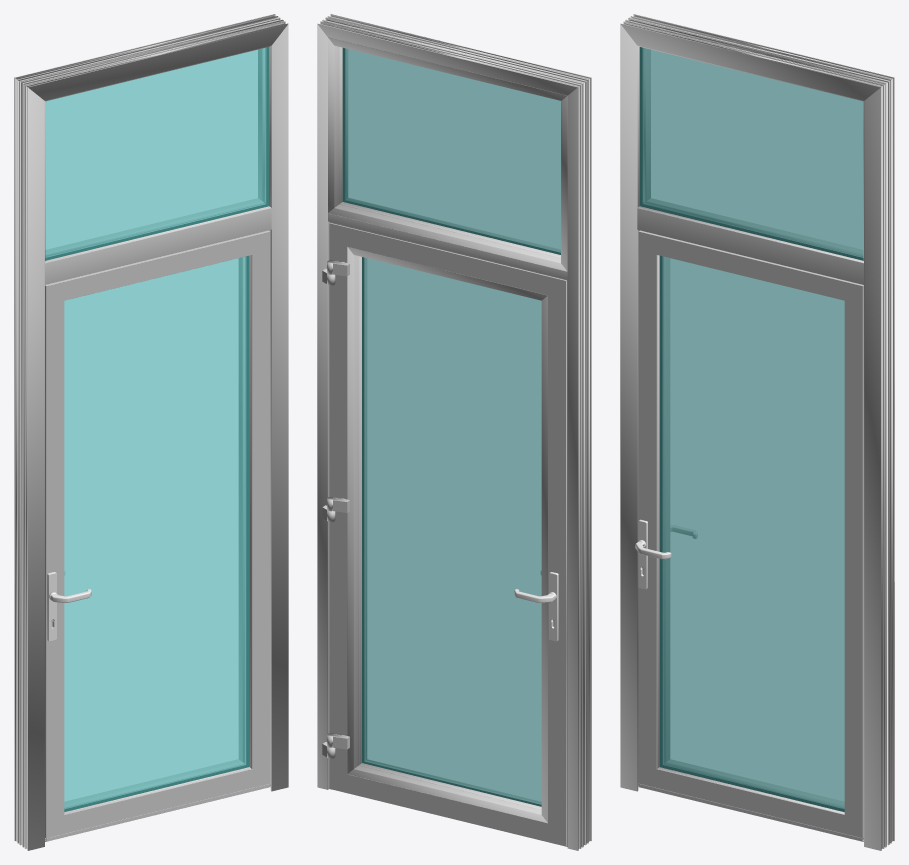
File: door.glb
The picture shows the model from 3 angles, left to right: view 1: azimuth 30°, elevation 25°; view 2: azimuth 150°, elevation 25°; view 3: azimuth 330°, elevation 25°; orthographic projection.
Visible parts, largest first — view 1: model; view 2: model; view 3: model.
Boxes of the visible parts, left/top/right/bottom form: model: left=14, top=14, right=288, bottom=850; model: left=317, top=14, right=591, bottom=850; model: left=620, top=14, right=894, bottom=850.
Size of the model in its own units: 1 by 2.8 by 0.2229.
